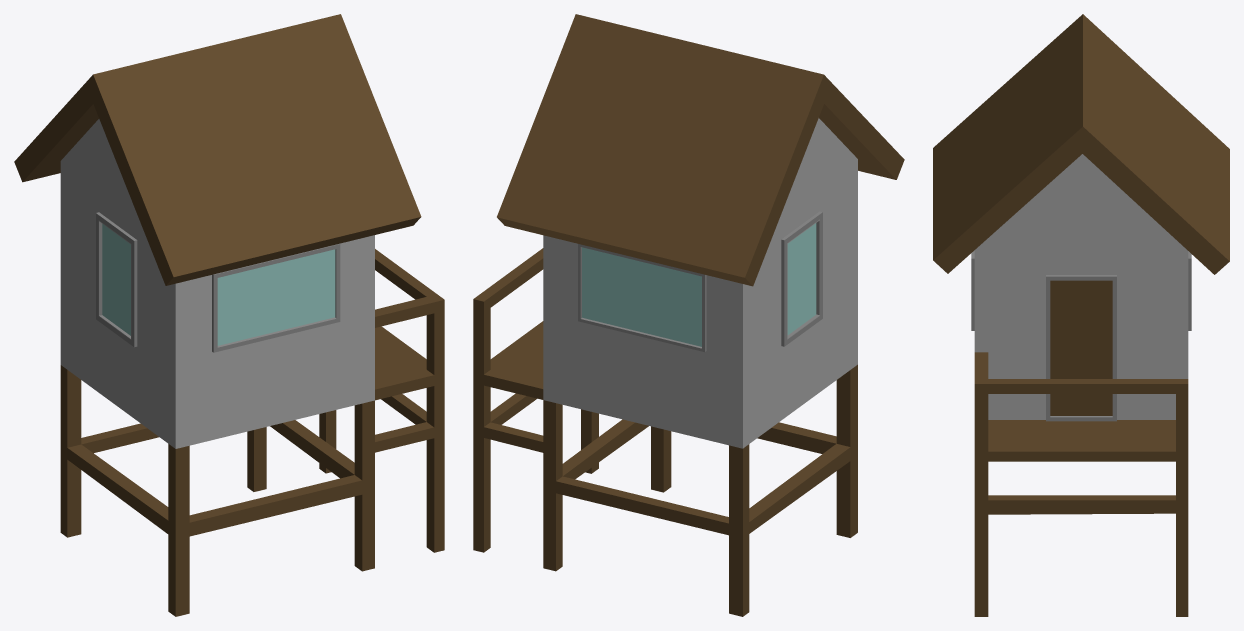
File: Caseta.fbx
The picture shows the model from 3 angles, left to right: view 1: azimuth 30°, elevation 25°; view 2: azimuth 150°, elevation 25°; view 3: azimuth 270°, elevation 25°; orthographic projection. The views are drawn at different scales.
Parts seen in each view (by area): view 1: Casa, Techo; view 2: Casa, Techo; view 3: Casa, Techo.
Part boxes in pixels (x1=…): Casa: x1=60, y1=119, x2=444, y2=616; Techo: x1=14, y1=14, x2=421, y2=285; Casa: x1=473, y1=118, x2=857, y2=616; Techo: x1=497, y1=14, x2=904, y2=286; Casa: x1=971, y1=154, x2=1191, y2=616; Techo: x1=933, y1=14, x2=1229, y2=274.
Size of the model in its own units: 295 by 486 by 277.
